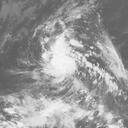cyclone: (39, 34, 81, 83)
